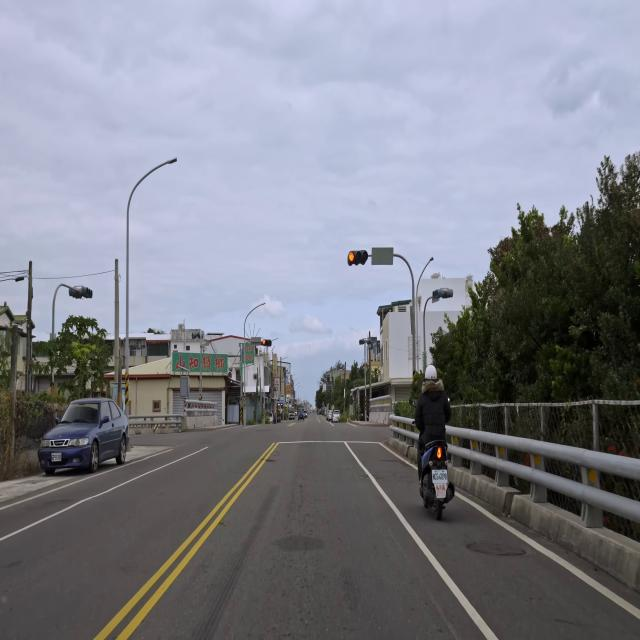red light: (347, 250, 368, 266), (262, 338, 272, 347)
